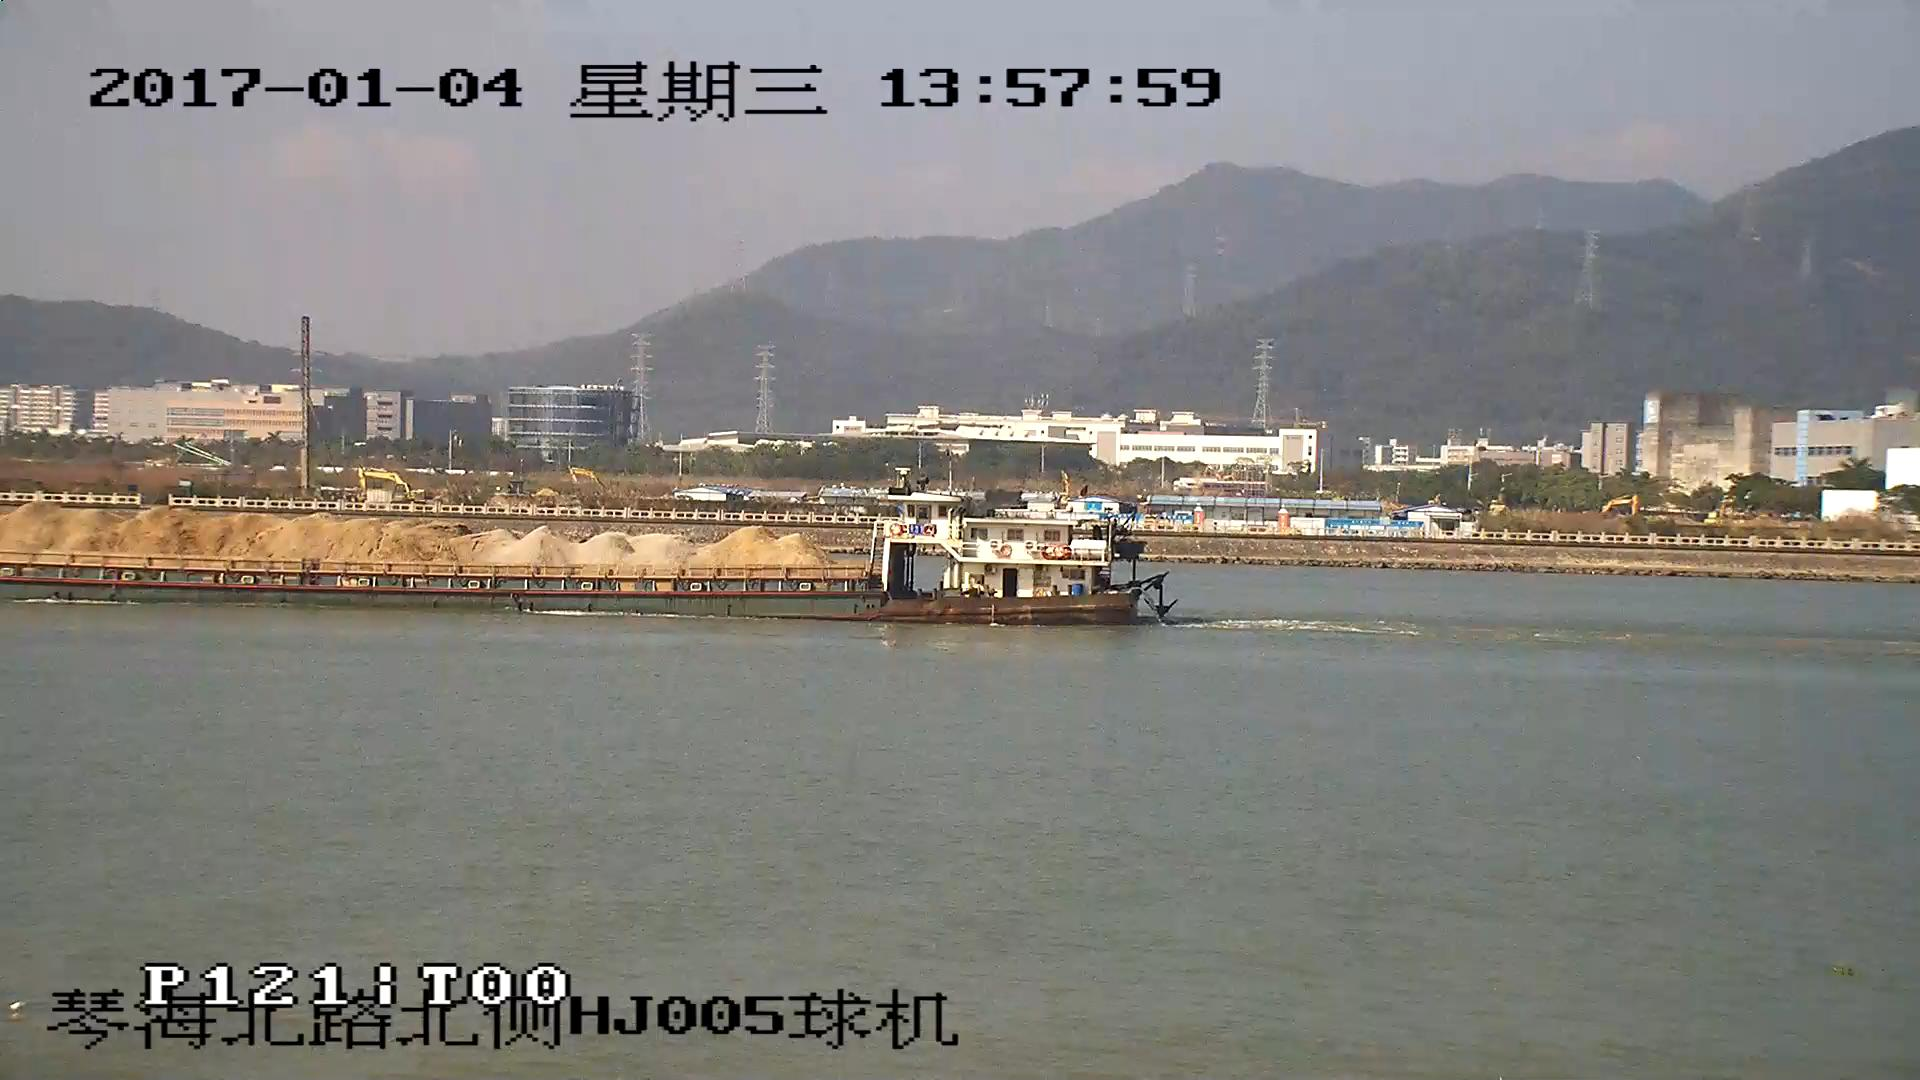ore carrier: (1, 496, 1177, 623)
